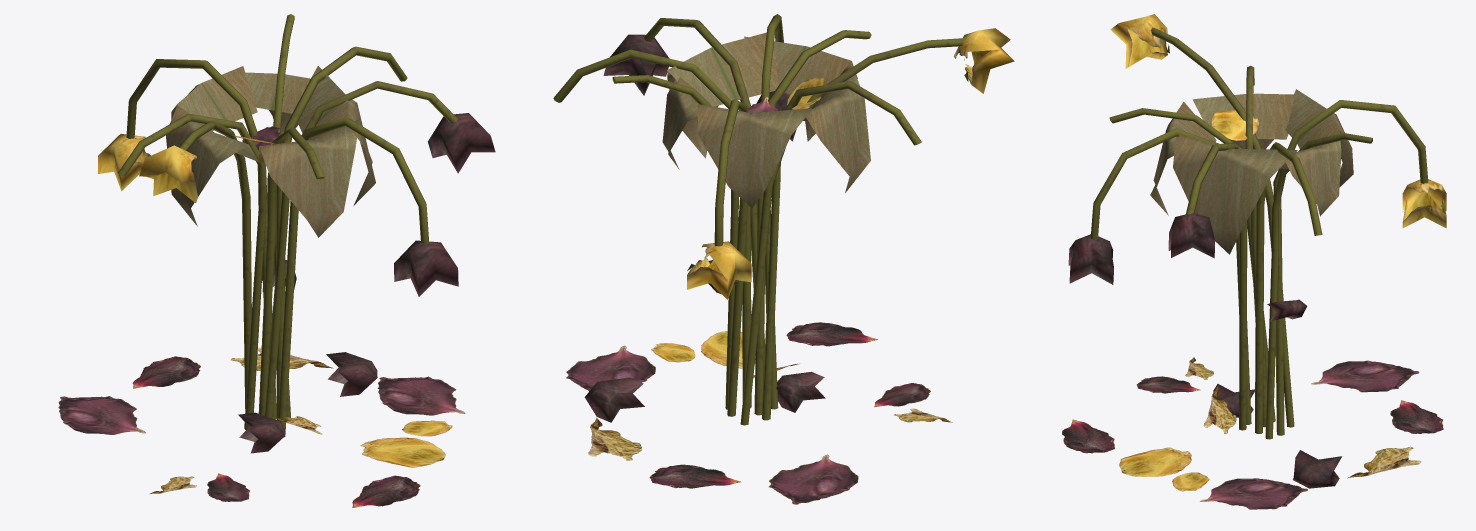
Rendered from flowersDead.fbx.
3 renders of one model, left to right at view 1: azimuth 30°, elevation 25°; view 2: azimuth 150°, elevation 25°; view 3: azimuth 270°, elevation 25°, orthographic. The views are drawn at different scales.
Visible parts, largest first — view 1: pPlane32, pCylinder17, pCylinder20, pCylinder18, pPlane31, pCylinder15, pPlane38, pPlane36, pCylinder19, pCylinder14, pCylinder21, pPlane35 (+14 smaller); view 2: pPlane35, pPlane33, pPlane31, pCylinder20, pCylinder19, pCylinder21, pCylinder14, pPlane36, pCylinder15, pPlane32, pCube3, pPlane38 (+14 smaller); view 3: pPlane33, pCylinder21, pCylinder14, pPlane31, pCylinder16, pCylinder18, pPlane34, pPlane38, pPlane36, pCylinder19, pPlane35, pCylinder17 (+18 smaller).
Part boxes in pixels (x1=…): pPlane32: x1=259, y1=119, x2=359, y2=237; pCylinder17: x1=264, y1=117, x2=428, y2=418; pCylinder20: x1=118, y1=113, x2=266, y2=430; pCylinder18: x1=278, y1=81, x2=457, y2=437; pPlane31: x1=166, y1=105, x2=258, y2=226; pCylinder15: x1=258, y1=127, x2=324, y2=415; pPlane38: x1=377, y1=376, x2=465, y2=415; pPlane36: x1=58, y1=396, x2=145, y2=434; pCylinder19: x1=179, y1=120, x2=251, y2=408; pCylinder14: x1=276, y1=46, x2=407, y2=420; pCylinder21: x1=126, y1=59, x2=276, y2=419; pPlane35: x1=171, y1=66, x2=257, y2=131; pPlane35: x1=697, y1=104, x2=811, y2=207; pPlane33: x1=667, y1=32, x2=778, y2=158; pPlane31: x1=803, y1=66, x2=870, y2=192; pCylinder20: x1=762, y1=81, x2=921, y2=420; pCylinder19: x1=740, y1=38, x2=965, y2=425; pCylinder21: x1=714, y1=99, x2=747, y2=416; pCylinder14: x1=553, y1=49, x2=751, y2=407; pPlane36: x1=769, y1=454, x2=858, y2=504; pCylinder15: x1=754, y1=30, x2=871, y2=415; pPlane32: x1=744, y1=36, x2=857, y2=141; pCube3: x1=687, y1=241, x2=751, y2=299; pPlane38: x1=566, y1=345, x2=655, y2=391; pPlane33: x1=1173, y1=135, x2=1297, y2=254; pCylinder21: x1=1273, y1=100, x2=1428, y2=435; pCylinder14: x1=1255, y1=142, x2=1322, y2=433; pPlane31: x1=1192, y1=93, x2=1294, y2=149; pCylinder16: x1=1265, y1=133, x2=1372, y2=439; pCylinder18: x1=1186, y1=142, x2=1247, y2=430; pPlane34: x1=1285, y1=130, x2=1341, y2=216; pPlane38: x1=1200, y1=478, x2=1307, y2=509; pPlane36: x1=1311, y1=360, x2=1419, y2=392; pCylinder19: x1=1150, y1=27, x2=1294, y2=427; pPlane35: x1=1285, y1=89, x2=1353, y2=186; pCylinder17: x1=1090, y1=128, x2=1251, y2=424.
Size of the model in its own units: 0.7555 by 0.6916 by 0.7586.
1 material, 1 textured.
